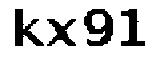1: (119, 6, 151, 52)
9: (81, 4, 115, 49)
k: (11, 6, 45, 52)
z: (45, 16, 78, 51)
